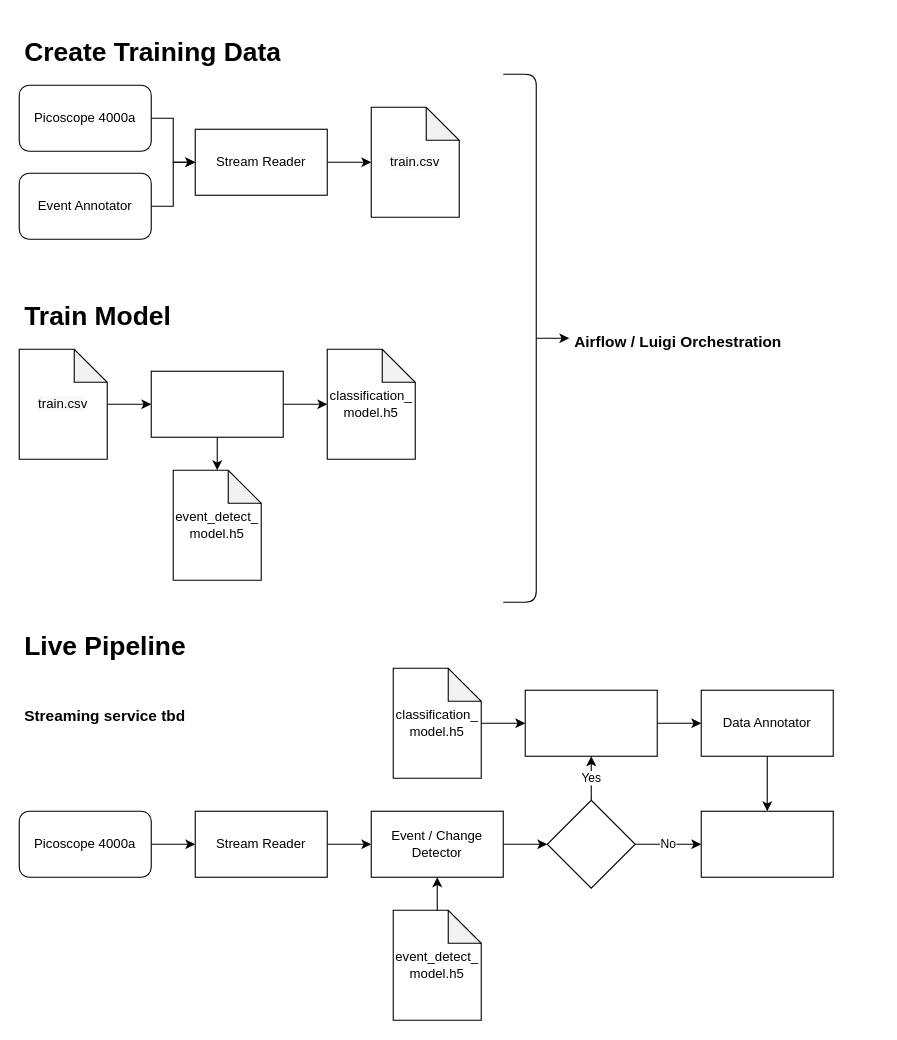
Image size: 897x1040. Some labels were removed from this diagram. Each missing label, with the centre of its shape:
Classification Model: point (590, 722)
Dashboard: point (766, 843)
Has Change?: point (590, 843)
Model Training: point (216, 403)
